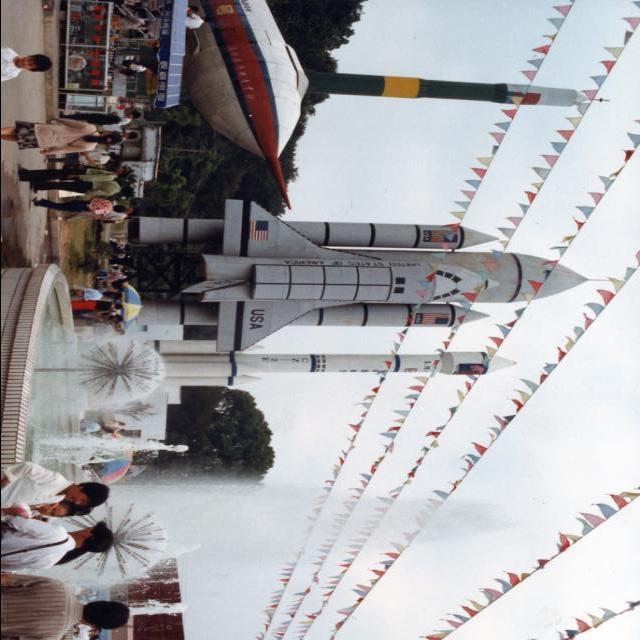missile: (101, 216, 497, 256), (308, 66, 600, 108), (233, 345, 516, 387), (292, 306, 496, 332)
